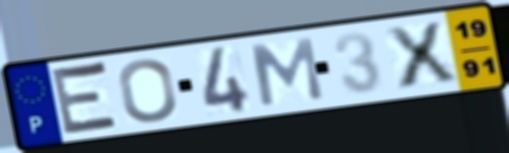3: (332, 29, 384, 97)
4: (200, 44, 253, 116)
E: (49, 59, 124, 138)
M: (248, 35, 327, 109)
O: (116, 56, 180, 125)
X: (381, 19, 462, 92)
